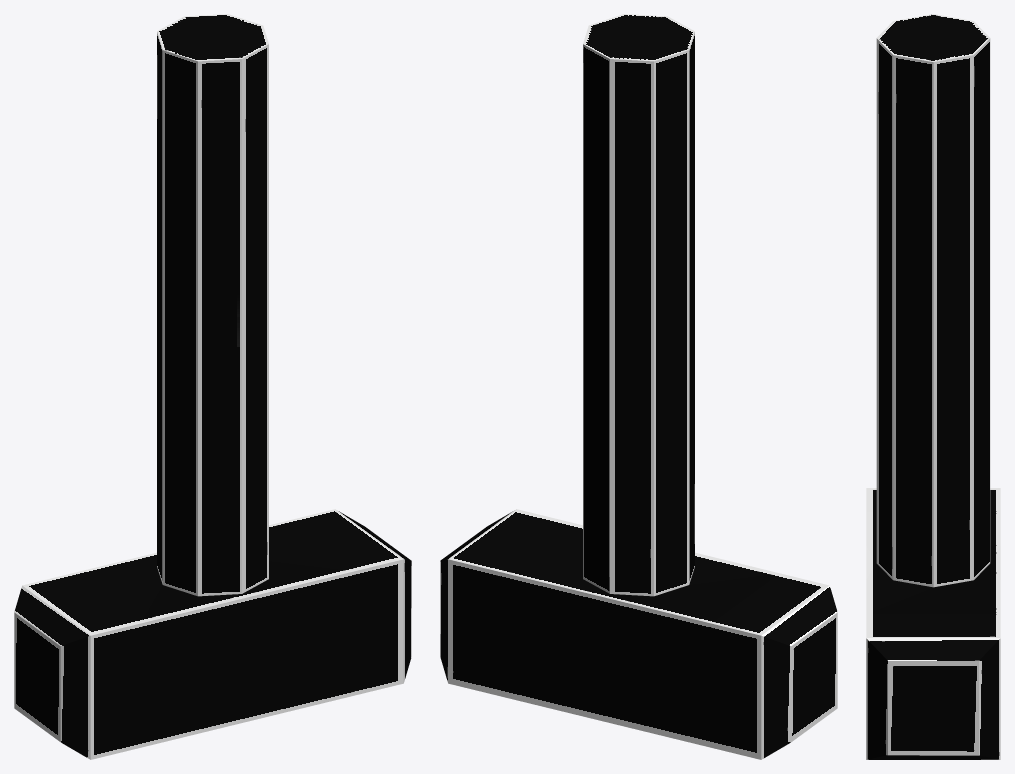
File: hammer.glb
3 views of the same model, side by side, from view 1: azimuth 30°, elevation 25°; view 2: azimuth 150°, elevation 25°; view 3: azimuth 270°, elevation 25° (orthographic).
Parts seen in each view (by area): view 1: Cube; view 2: Cube; view 3: Cube.
Part boxes in pixels (<box>): Cube: <box>14,14,411,759</box>; Cube: <box>440,14,837,759</box>; Cube: <box>866,14,1000,759</box>.
Size of the model in its own units: 5.91 by 10.6 by 2.
1 material, 1 textured.
